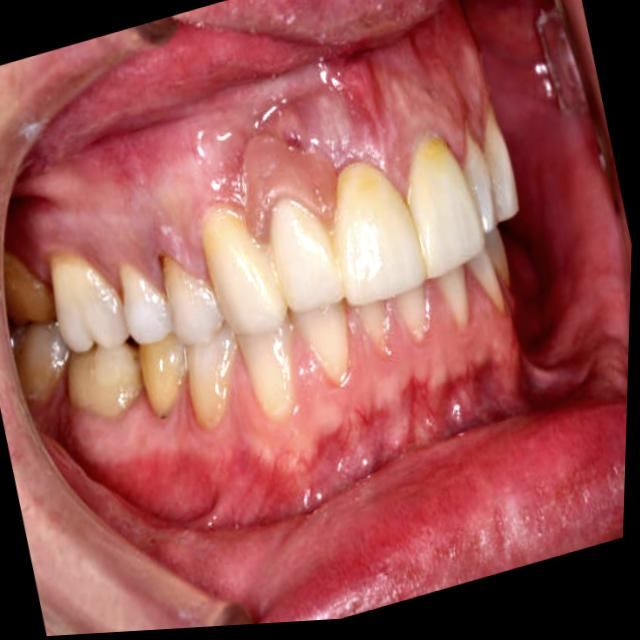gingivitis: (68, 280, 519, 519), (24, 56, 487, 246)
